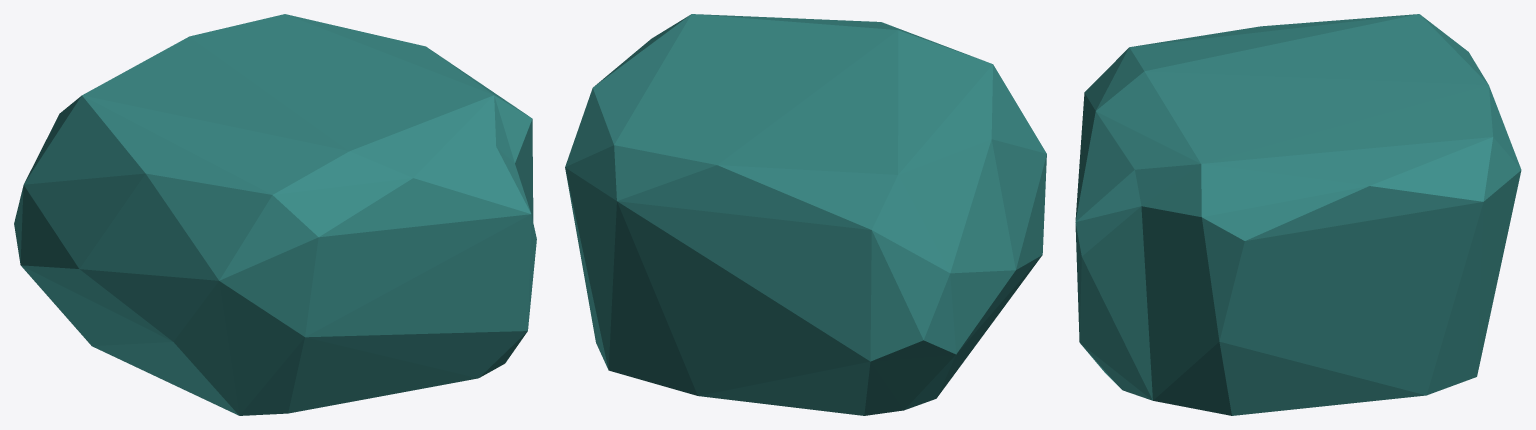
The model's file is SM_Rock_Sea_Small_Flat_A.fbx.
3 renders of one model, left to right at view 1: azimuth 30°, elevation 25°; view 2: azimuth 150°, elevation 25°; view 3: azimuth 270°, elevation 25°, orthographic. The views are drawn at different scales.
Parts seen in each view (by area): view 1: rock-sea-small-flat-a; view 2: rock-sea-small-flat-a; view 3: rock-sea-small-flat-a.
Part boxes in pixels (x1,y1,x2,y2): rock-sea-small-flat-a: (14,14,536,415); rock-sea-small-flat-a: (565,14,1046,415); rock-sea-small-flat-a: (1075,14,1521,415).
Size of the model in its own units: 1.01 by 0.5654 by 0.9116.
